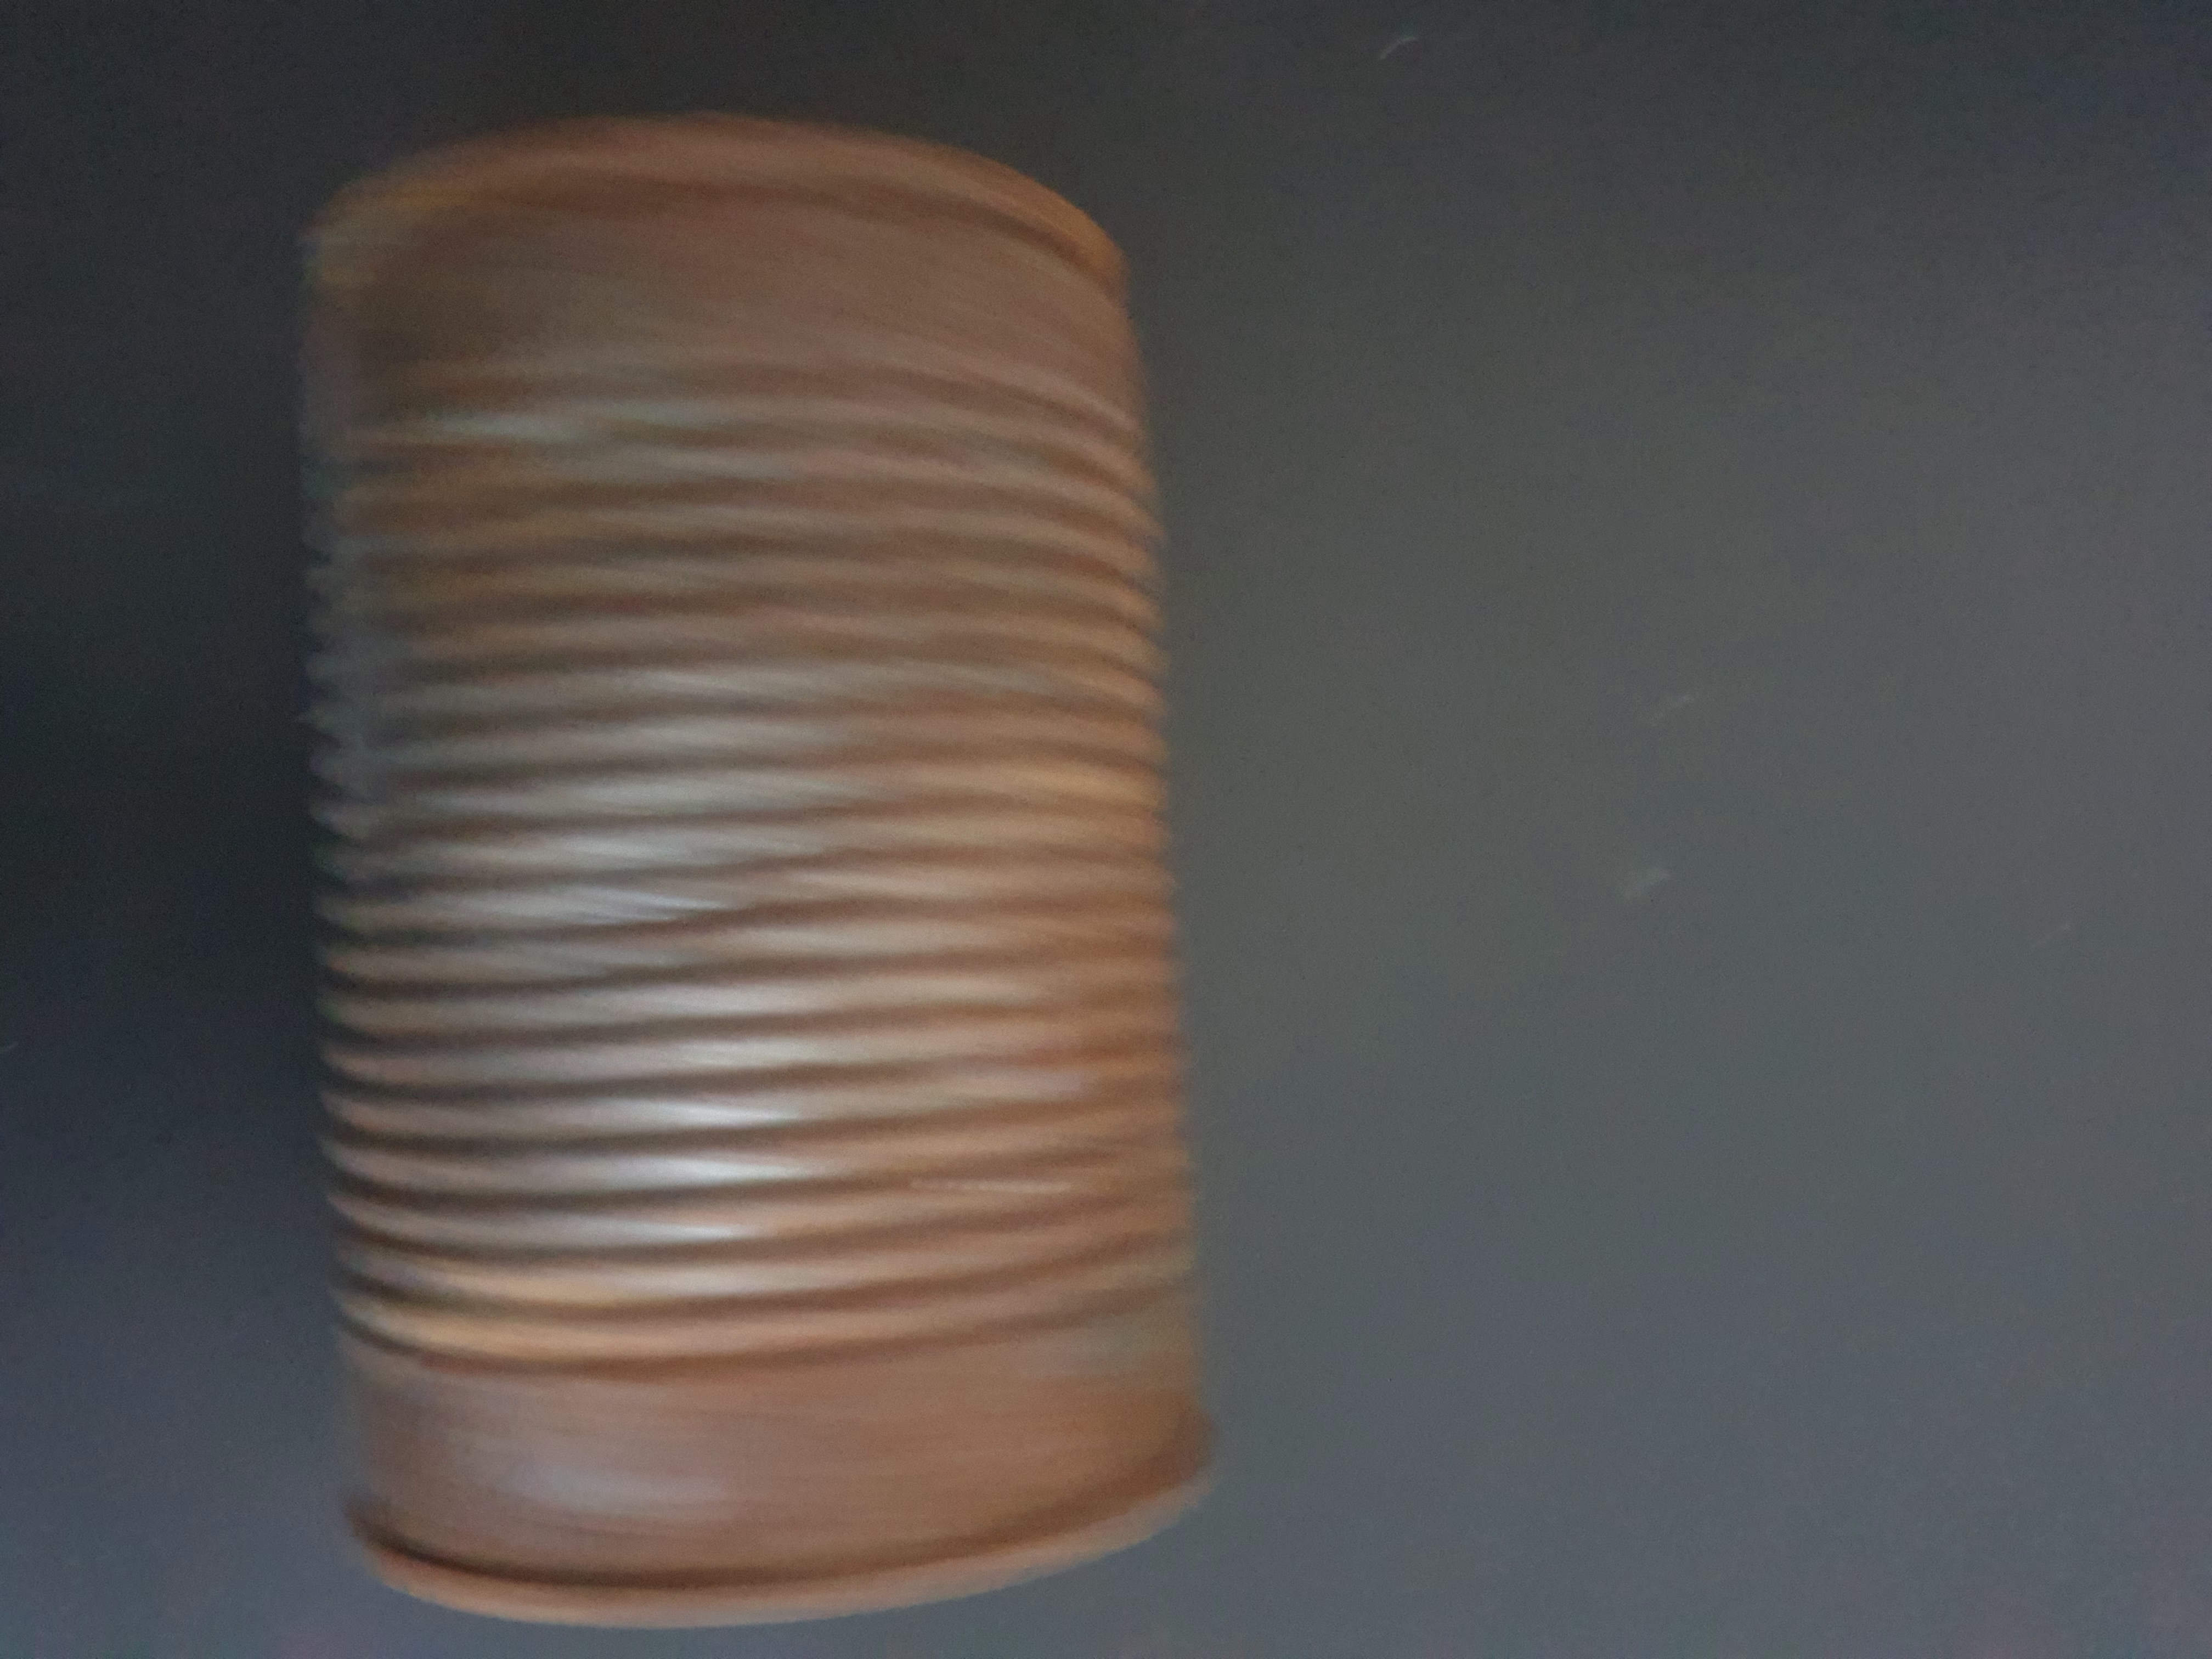metal: (211, 92, 1254, 1614)
